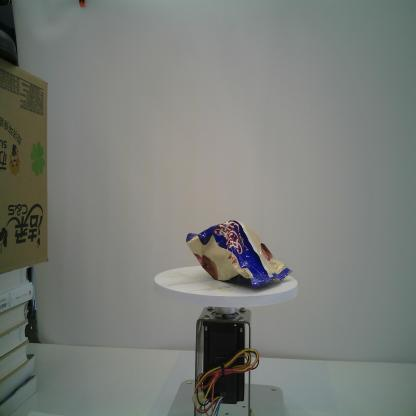Dessert: (185, 219, 292, 289)
